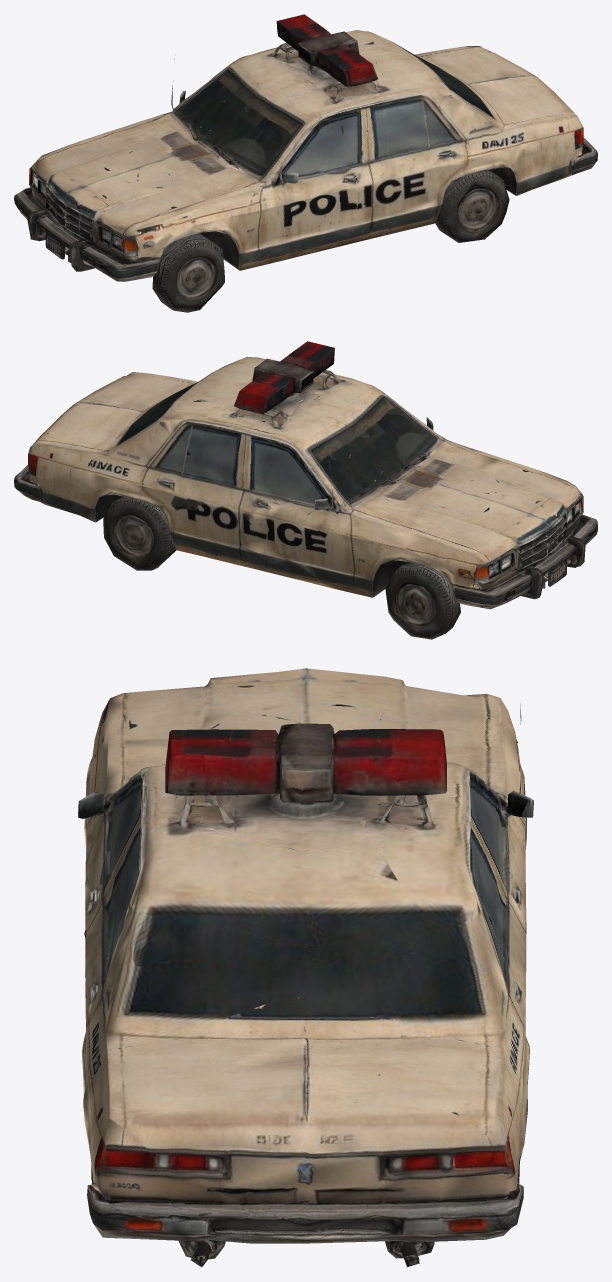
File: car_police_light_q4.glb
3 views of the same model, one above another, from view 1: azimuth 30°, elevation 25°; view 2: azimuth 150°, elevation 25°; view 3: azimuth 270°, elevation 25° (orthographic). The views are drawn at different scales.
Bounding box in the file's own units: 4.03 × 1.45 × 1.58.
1 material, 1 textured.
